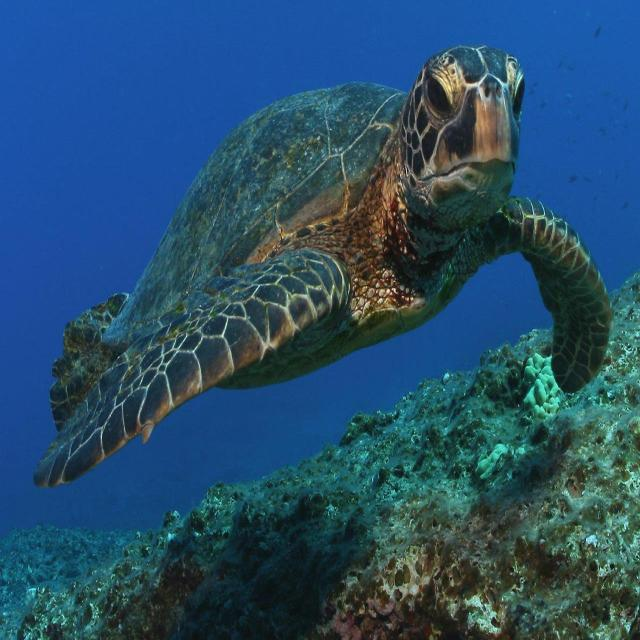turtle: (201, 40, 578, 372)
